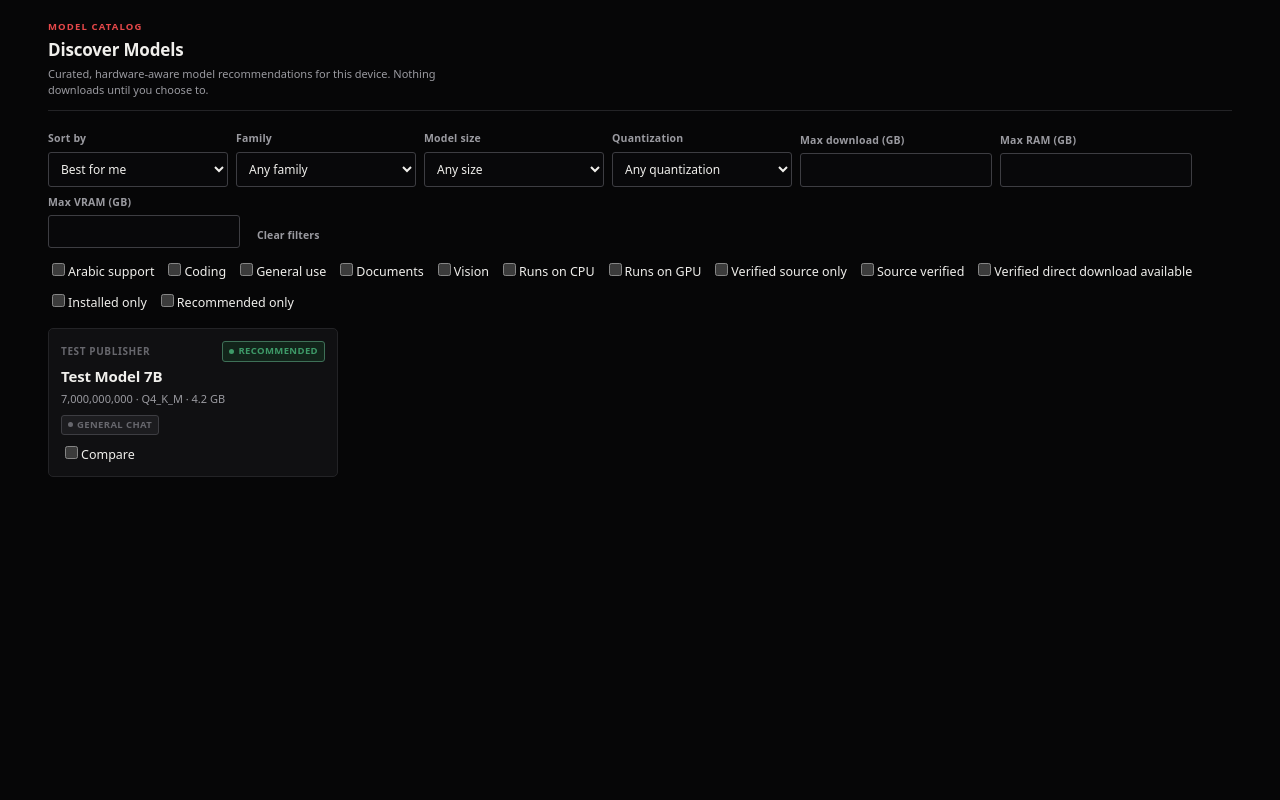
Discover page — model card navigation safety › clicking a model card opens an internal modal, not a navigation
Click the text "Test Model 7B". click: (112, 376)
box: x1=61 y1=366 x2=162 y2=386
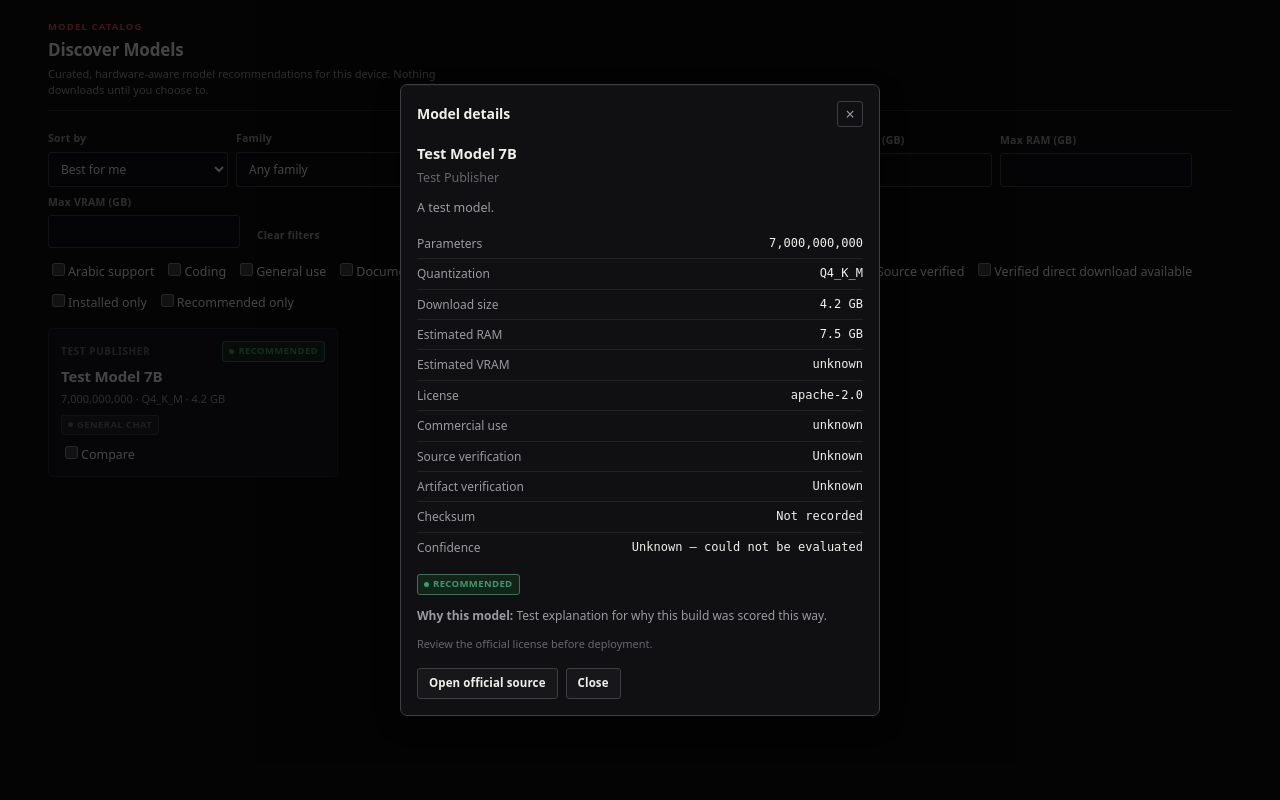
Check: the dialog is shown, box x1=400 y1=84 x2=880 y2=716
Check: the heading "Test Model 7B" is shown, box x1=417 y1=143 x2=517 y2=163
